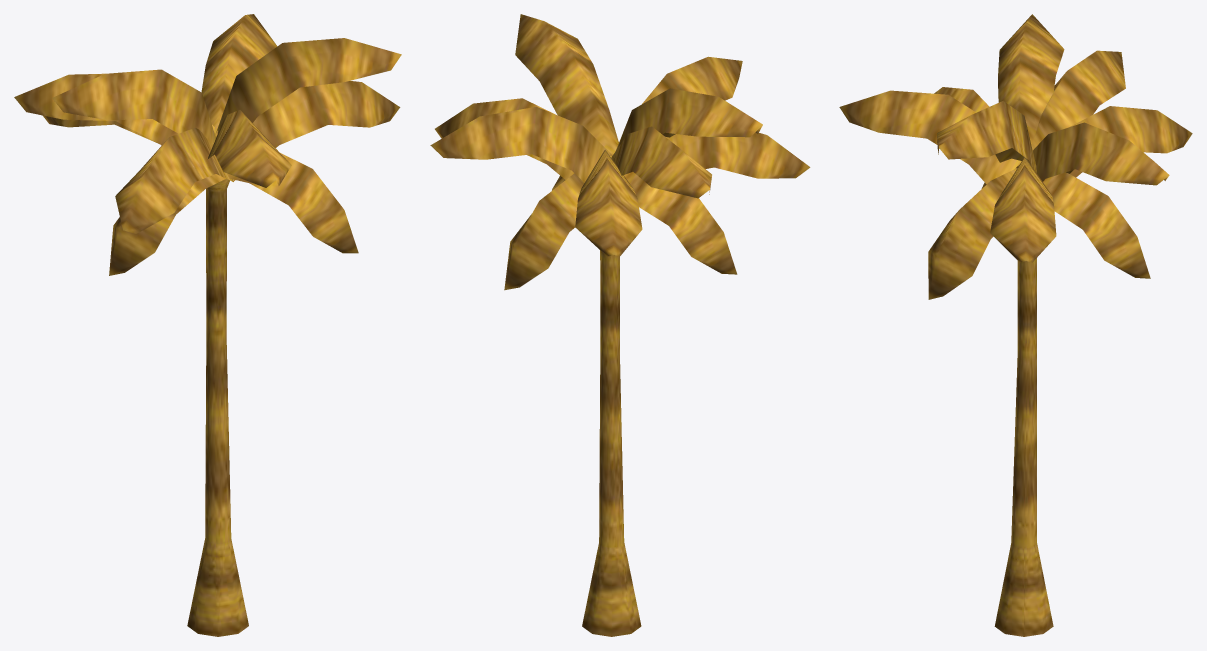
File: coconutpalm.obj
3 views of the same model, side by side, from view 1: azimuth 30°, elevation 25°; view 2: azimuth 150°, elevation 25°; view 3: azimuth 270°, elevation 25° (orthographic). The views are drawn at different scales.
Visible parts, largest first — view 1: Cylinder02, Duplicate09, Duplicate10, Duplicate01, Triangles, Duplicate06, Duplicate03, Duplicate05, Duplicate04, Duplicate08, Duplicate02; view 2: Cylinder02, Duplicate03, Duplicate09, Duplicate10, Duplicate02, Duplicate07, Duplicate08, Duplicate04, Duplicate01, Duplicate05, Triangles; view 3: Cylinder02, Duplicate03, Duplicate05, Duplicate10, Duplicate07, Duplicate06, Triangles, Duplicate04, Duplicate09, Duplicate02, Duplicate01.
Boxes of the visible parts, <box> form: Cylinder02: <box>187,134,248,636</box>; Duplicate09: <box>216,38,401,133</box>; Duplicate10: <box>52,69,215,144</box>; Duplicate01: <box>115,128,233,233</box>; Triangles: <box>233,81,400,180</box>; Duplicate06: <box>228,153,358,253</box>; Duplicate03: <box>201,14,277,136</box>; Duplicate05: <box>208,110,291,187</box>; Duplicate04: <box>14,73,178,145</box>; Duplicate08: <box>109,174,225,275</box>; Duplicate02: <box>42,115,214,144</box>; Cylinder02: <box>582,156,641,636</box>; Duplicate03: <box>430,106,612,182</box>; Duplicate09: <box>515,14,618,155</box>; Duplicate10: <box>613,88,762,161</box>; Duplicate02: <box>575,150,642,256</box>; Duplicate07: <box>504,173,584,290</box>; Duplicate08: <box>624,172,737,274</box>; Duplicate04: <box>611,126,711,198</box>; Duplicate01: <box>666,132,810,178</box>; Duplicate05: <box>615,56,742,151</box>; Triangles: <box>435,98,574,179</box>; Cylinder02: <box>994,165,1053,636</box>; Duplicate03: <box>1027,122,1169,185</box>; Duplicate05: <box>839,90,1021,184</box>; Duplicate10: <box>998,14,1064,145</box>; Duplicate07: <box>1043,172,1150,278</box>; Duplicate06: <box>928,168,1017,299</box>; Triangles: <box>990,157,1056,262</box>; Duplicate04: <box>1031,50,1125,150</box>; Duplicate09: <box>937,101,1036,172</box>; Duplicate02: <box>1069,106,1192,177</box>; Duplicate01: <box>934,87,989,112</box>.
Bounding box in the file's own units: 79.28 × 128 × 73.87.
